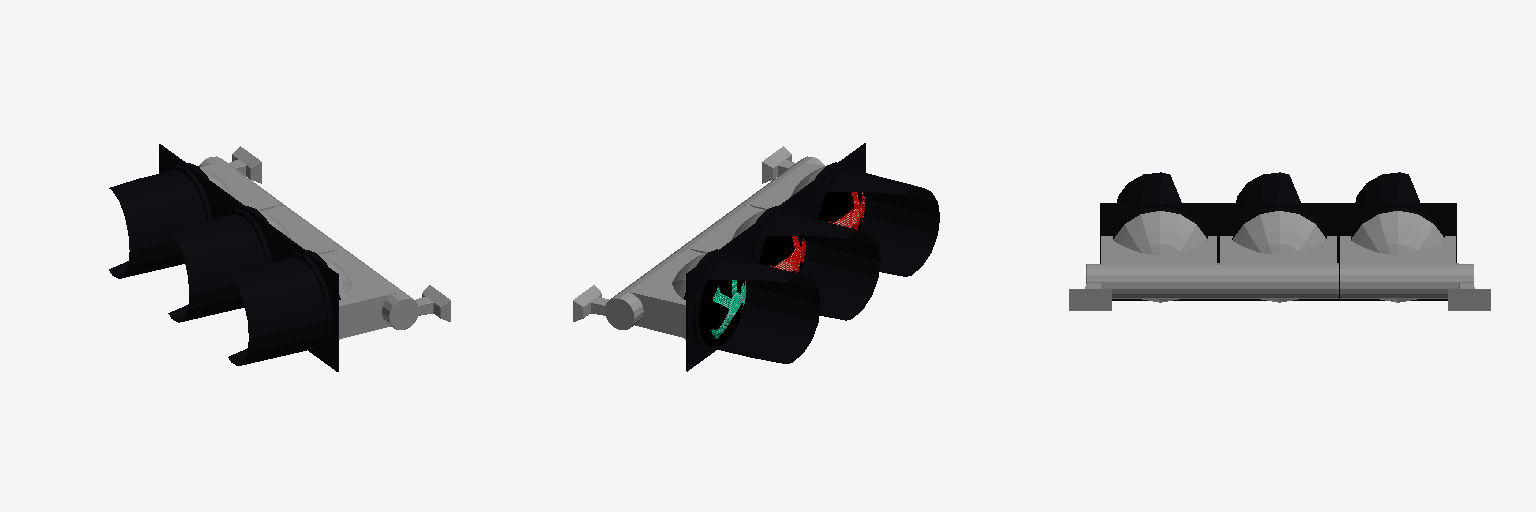
3 views of the same model, side by side, from view 1: azimuth 30°, elevation 25°; view 2: azimuth 150°, elevation 25°; view 3: azimuth 270°, elevation 25° (orthographic).
Parts seen in each view (by area): view 1: Sonnenblende.002_Cylinder.002, Sonnenblende_Cylinder.002, Sonnenblende.001_Cylinder.002, Cube.004_Cube.002, Masthalterung_Cylinder.004, Blende.002_Cube.004, Cube.005_Cube.002, Cube.003_Cube.002, BezierCurve.020, Blende_Cube.004, Blende.001_Cube.004, Masthalterung.001_Cylinder.004 (+2 smaller); view 2: Sonnenblende_Cylinder.002, Sonnenblende.001_Cylinder.002, Sonnenblende.002_Cylinder.002, BezierCurve.018, Cube.005_Cube.002, BezierCurve.020, BezierCurve.019, Masthalterung.001_Cylinder.004, Blende_Cube.004, Cube.003_Cube.002, Cube.004_Cube.002, Blende.001_Cube.004 (+2 smaller); view 3: Cube.003_Cube.002, Cube.005_Cube.002, Cube.004_Cube.002, BezierCurve.018, BezierCurve.020, BezierCurve.019, Blende_Cube.004, Blende.002_Cube.004, Blende.001_Cube.004, Sonnenblende_Cylinder.002, Sonnenblende.002_Cylinder.002, Sonnenblende.001_Cylinder.002 (+2 smaller).
Part boxes in pixels (bbox=[...]): Sonnenblende.002_Cylinder.002: bbox=[228, 257, 326, 365]; Sonnenblende_Cylinder.002: bbox=[109, 170, 205, 278]; Sonnenblende.001_Cylinder.002: bbox=[168, 214, 265, 322]; Cube.004_Cube.002: bbox=[321, 249, 405, 339]; Masthalterung_Cylinder.004: bbox=[382, 285, 450, 329]; Blende.002_Cube.004: bbox=[278, 232, 338, 371]; Cube.005_Cube.002: bbox=[202, 162, 286, 210]; Cube.003_Cube.002: bbox=[263, 205, 346, 253]; BezierCurve.020: bbox=[284, 250, 352, 351]; Blende_Cube.004: bbox=[159, 144, 219, 218]; Blende.001_Cube.004: bbox=[219, 188, 279, 261]; Masthalterung.001_Cylinder.004: bbox=[199, 146, 261, 183]; Sonnenblende_Cylinder.002: bbox=[708, 256, 820, 363]; Sonnenblende.001_Cylinder.002: bbox=[768, 213, 880, 320]; Sonnenblende.002_Cylinder.002: bbox=[827, 169, 939, 276]; BezierCurve.018: bbox=[672, 249, 746, 351]; Cube.005_Cube.002: bbox=[618, 249, 704, 337]; BezierCurve.020: bbox=[791, 162, 865, 229]; BezierCurve.019: bbox=[731, 206, 805, 273]; Masthalterung.001_Cylinder.004: bbox=[573, 285, 641, 329]; Blende_Cube.004: bbox=[686, 230, 746, 371]; Cube.003_Cube.002: bbox=[677, 205, 763, 252]; Cube.004_Cube.002: bbox=[737, 162, 823, 209]; Blende.001_Cube.004: bbox=[746, 187, 806, 261]; Cube.003_Cube.002: bbox=[1220, 236, 1338, 298]; Cube.005_Cube.002: bbox=[1340, 236, 1458, 298]; Cube.004_Cube.002: bbox=[1101, 236, 1219, 298]; BezierCurve.018: bbox=[1351, 207, 1444, 302]; BezierCurve.020: bbox=[1113, 207, 1207, 302]; BezierCurve.019: bbox=[1232, 207, 1326, 302]; Blende_Cube.004: bbox=[1338, 203, 1456, 300]; Blende.002_Cube.004: bbox=[1100, 203, 1218, 300]; Blende.001_Cube.004: bbox=[1219, 203, 1337, 300]; Sonnenblende_Cylinder.002: bbox=[1355, 172, 1419, 202]; Sonnenblende.002_Cylinder.002: bbox=[1117, 172, 1181, 202]; Sonnenblende.001_Cylinder.002: bbox=[1236, 172, 1300, 202].
Size of the model in its own units: 0.4823 by 0.2502 by 0.9853.
Materials: 4 (4 with a texture image).